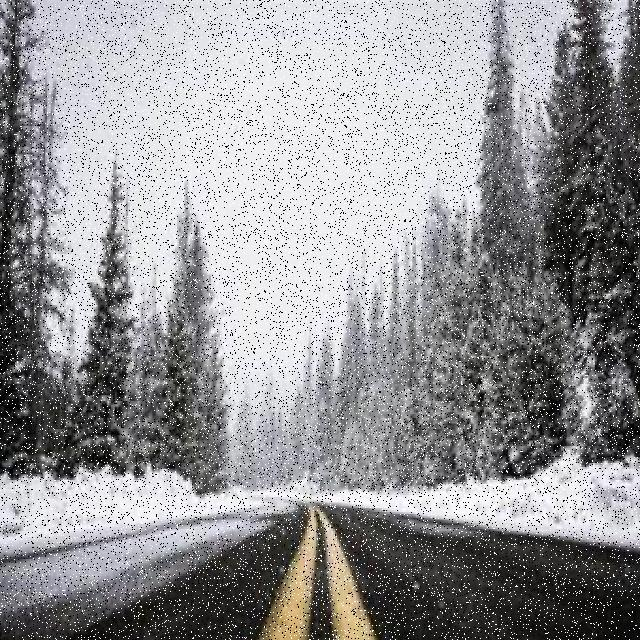ice-road: (326, 510, 640, 640), (69, 511, 303, 640), (309, 528, 332, 640)
